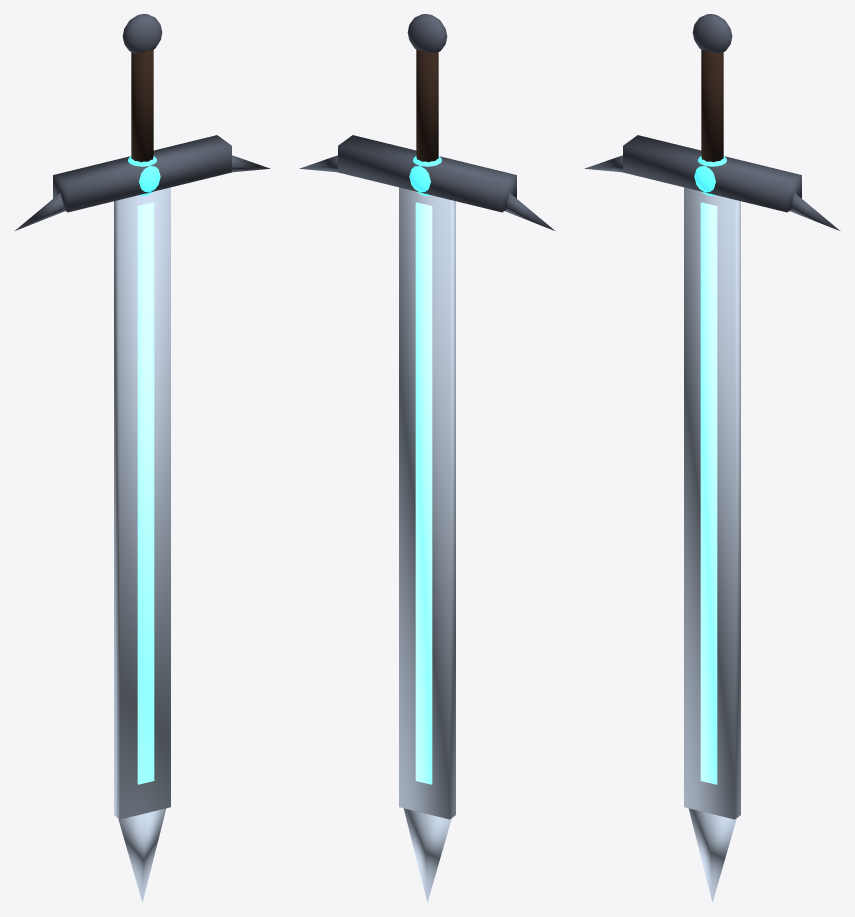
Rendered from weapon_guerreiro_ia.glb.
3 views of the same model, side by side, from view 1: azimuth 30°, elevation 25°; view 2: azimuth 150°, elevation 25°; view 3: azimuth 330°, elevation 25° (orthographic).
Parts seen in each view (by area): view 1: Lamina, FioRunico, Guarda, Cabo, Ponta, Pomo, GemaGuarda, GuardaAsa; view 2: Lamina, FioRunico, Guarda, Cabo, Ponta, Pomo, GemaGuarda, GuardaAsa; view 3: Lamina, FioRunico, Guarda, Cabo, Ponta, Pomo, GemaGuarda, GuardaAsa.001.
Part boxes in pixels (box(x1,y1,x2,y2)): Lamina: box(114, 187, 170, 819); FioRunico: box(137, 202, 154, 784); Guarda: box(53, 135, 231, 212); Cabo: box(131, 50, 153, 162); Ponta: box(118, 808, 166, 902); Pomo: box(122, 14, 162, 53); GemaGuarda: box(128, 156, 160, 195); GuardaAsa: box(15, 193, 64, 230); Lamina: box(399, 187, 455, 819); FioRunico: box(415, 202, 432, 784); Guarda: box(338, 135, 516, 212); Cabo: box(416, 50, 438, 162); Ponta: box(403, 808, 451, 902); Pomo: box(407, 14, 447, 53); GemaGuarda: box(409, 156, 441, 195); GuardaAsa: box(505, 193, 554, 230); Lamina: box(684, 187, 740, 819); FioRunico: box(700, 202, 717, 784); Guarda: box(623, 135, 801, 212); Cabo: box(701, 50, 723, 162); Ponta: box(688, 808, 736, 902); Pomo: box(692, 14, 732, 53); GemaGuarda: box(694, 156, 726, 195); GuardaAsa.001: box(790, 193, 839, 230).
Bounding box in the file's own units: 0.9071 × 2.99 × 0.12.
